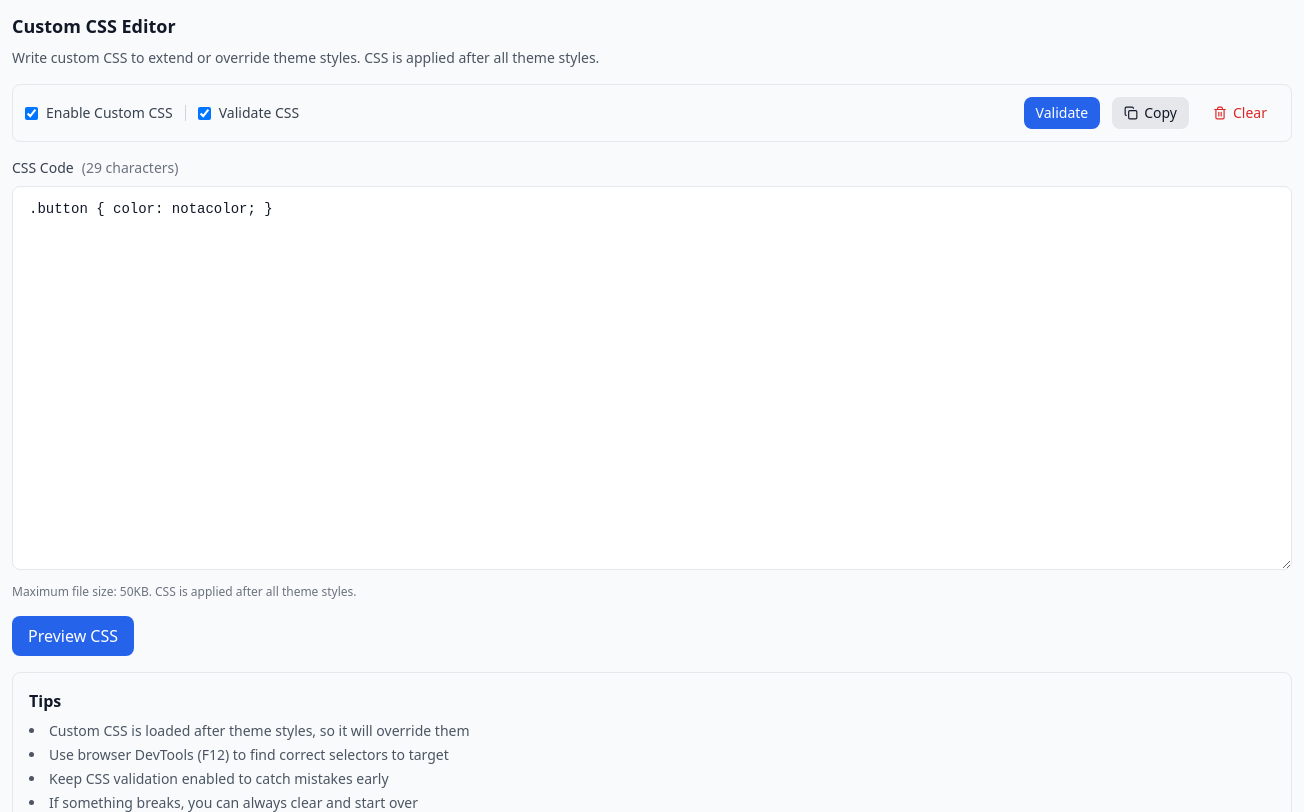
Scenario: CustomCSSEditor › CSS Validation › should validate color values
The width and height of the screenshot is (1304, 812).
Step 1. Click the button "Validate" → (1062, 113), box top-left (1024, 97), bottom-right (1100, 129)
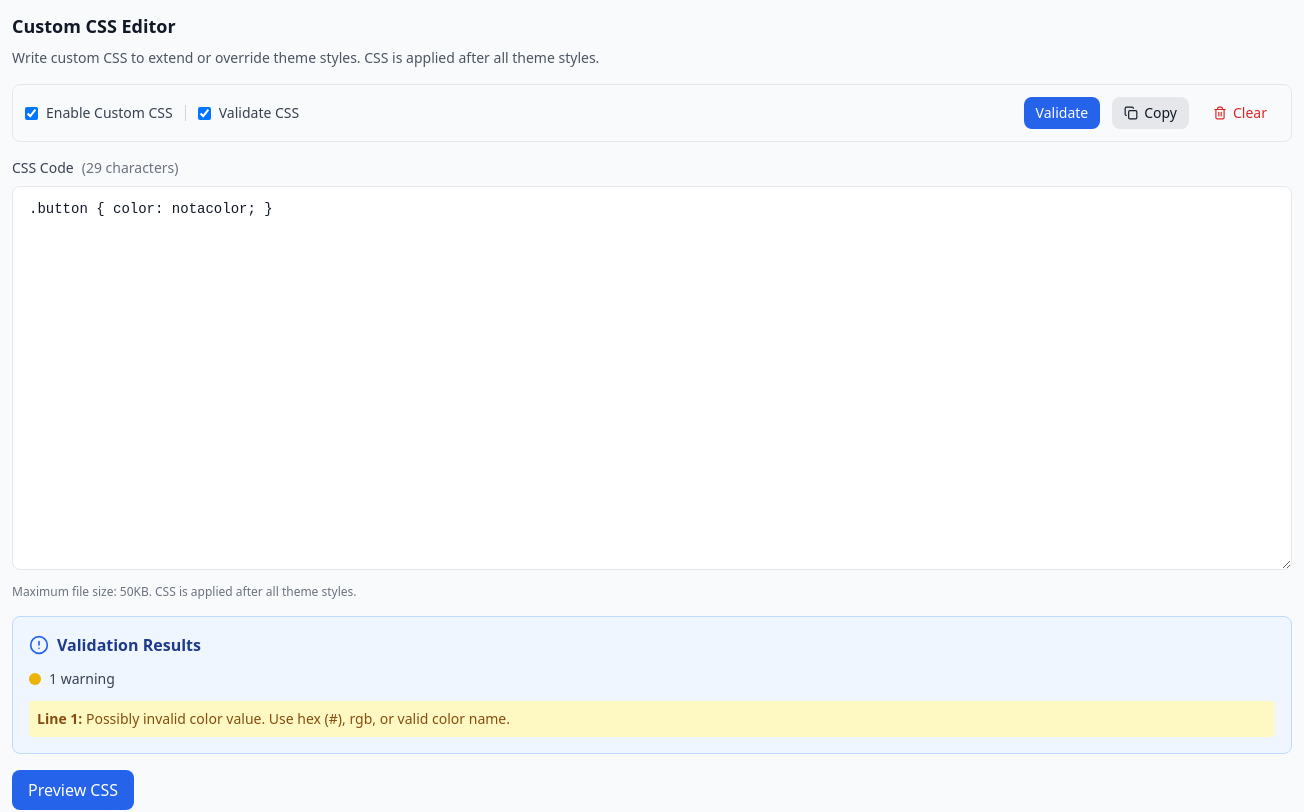
expect the text "invalid color value" is shown: met, box top-left (86, 709), bottom-right (510, 728)
